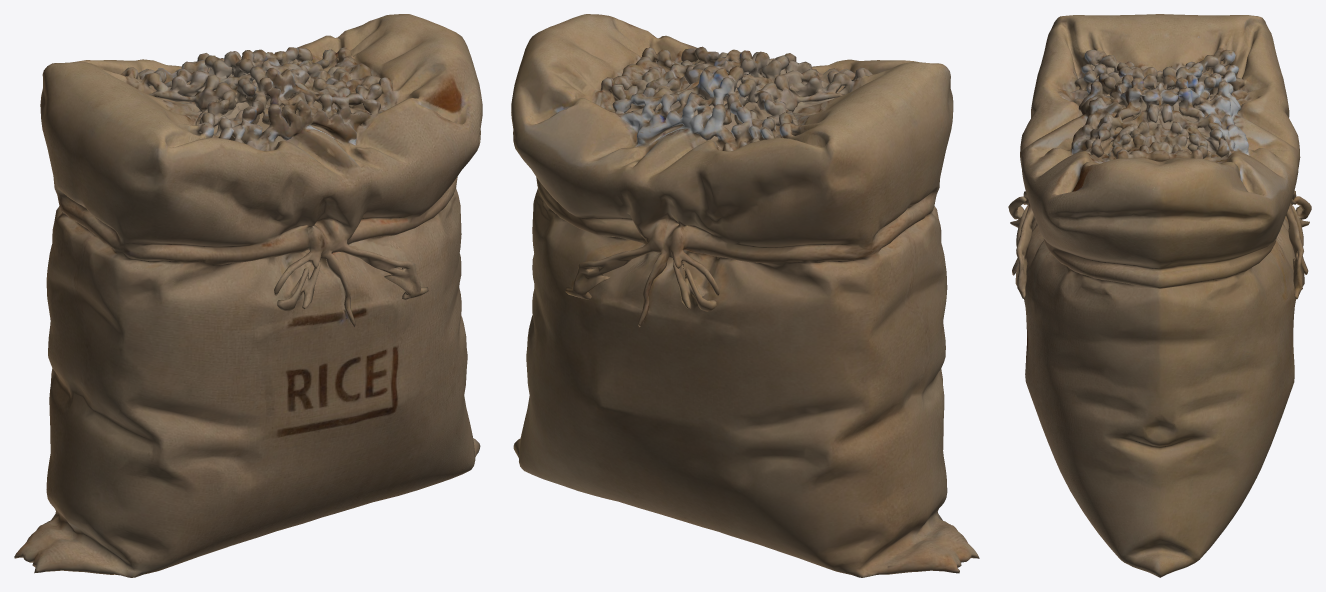
The model's file is sack_of_rice_1104185023_refine.fbx.
The picture shows the model from 3 angles, left to right: view 1: azimuth 30°, elevation 25°; view 2: azimuth 150°, elevation 25°; view 3: azimuth 270°, elevation 25°; orthographic projection. The views are drawn at different scales.
Parts seen in each view (by area): view 1: file1; view 2: file1; view 3: file1.
Part boxes in pixels (x1,y1,x2,y2): file1: [14, 14, 482, 577]; file1: [511, 14, 979, 577]; file1: [1008, 14, 1311, 577].
Bounding box in the file's own units: 195 × 184 × 124.
Materials: 1 (1 with a texture image).
